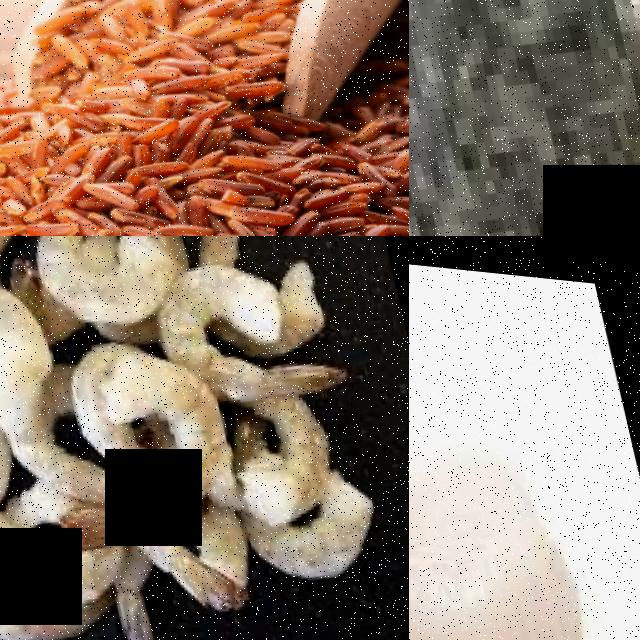red rice: (0, 5, 409, 236)
sea scallops: (409, 401, 606, 640)
shrimp: (29, 325, 246, 554), (184, 241, 300, 406), (27, 236, 171, 334), (0, 253, 61, 462)
